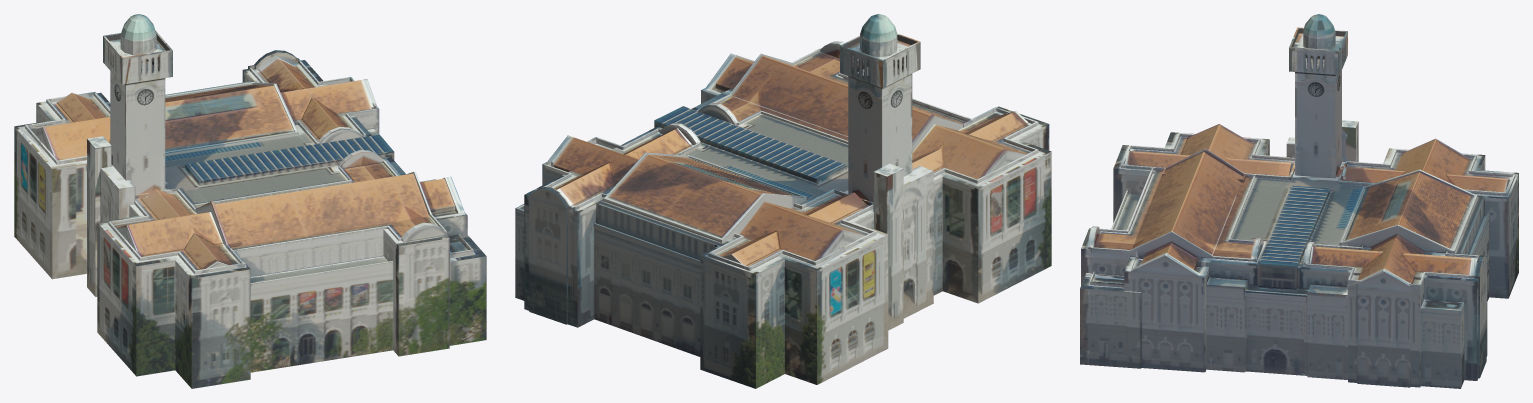
3 renders of one model, left to right at view 1: azimuth 30°, elevation 25°; view 2: azimuth 150°, elevation 25°; view 3: azimuth 270°, elevation 25°, orthographic. The views are drawn at different scales.
Parts seen in each view (by area): view 1: 11_0.glb_1; view 2: 11_0.glb_1; view 3: 11_0.glb_1.
Part boxes in pixels (x1=…): 11_0.glb_1: x1=14, y1=14, x2=486, y2=388; 11_0.glb_1: x1=515, y1=14, x2=1051, y2=388; 11_0.glb_1: x1=1080, y1=14, x2=1518, y2=388.
Bounding box in the file's own units: 70.41 × 53.35 × 83.17.
Materials: 2 (2 with a texture image).
